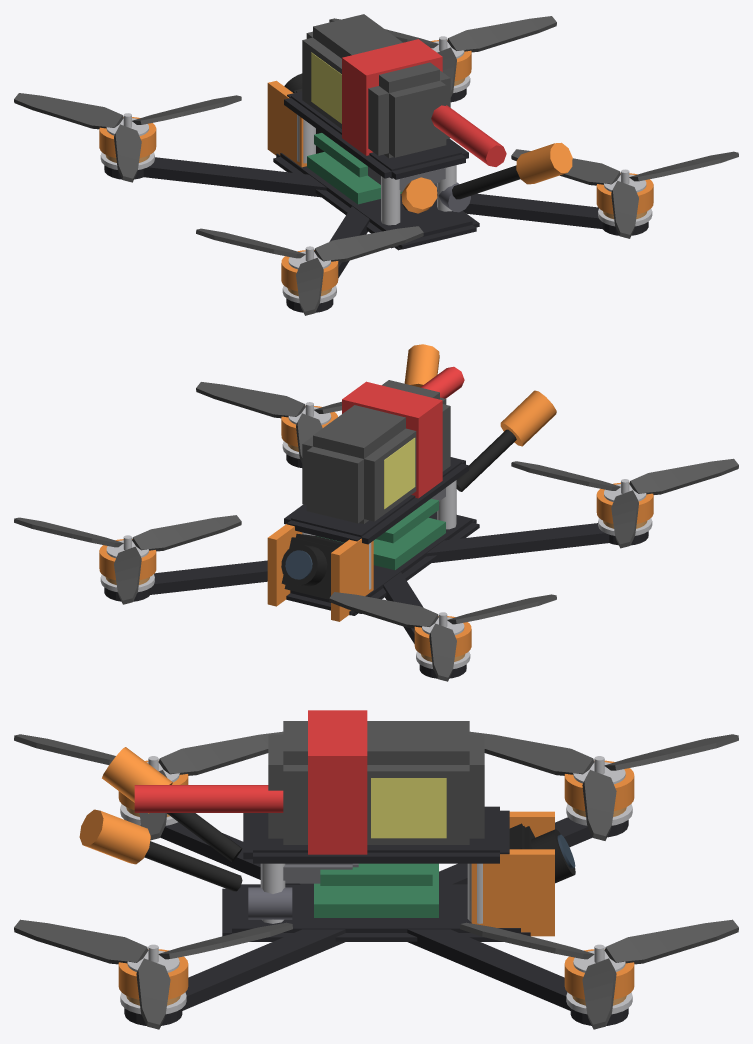
The model's file is micro25.glb.
The picture shows the model from 3 angles, top to bottom: view 1: azimuth 30°, elevation 25°; view 2: azimuth 150°, elevation 25°; view 3: azimuth 270°, elevation 25°; orthographic projection. The views are drawn at different scales.
Visible parts, largest first — view 1: body, prop_RL, prop_FL, prop_RR, prop_FR, cam_mount; view 2: body, prop_FL, prop_RL, prop_FR, cam_mount, prop_RR, fpv_cam; view 3: body, cam_mount, prop_FR, prop_RR, prop_FL, prop_RL, fpv_cam.
Part boxes in pixels (left/top/right/bottom): body: left=99, top=14, right=653, bottom=312; prop_RL: left=196, top=226, right=423, bottom=315; prop_FL: left=14, top=93, right=241, bottom=182; prop_RR: left=511, top=149, right=738, bottom=238; prop_FR: left=329, top=16, right=556, bottom=97; cam_mount: left=267, top=80, right=306, bottom=167; body: left=99, top=344, right=653, bottom=678; prop_FL: left=329, top=592, right=556, bottom=681; prop_RL: left=511, top=458, right=738, bottom=548; prop_FR: left=14, top=515, right=241, bottom=604; cam_mount: left=267, top=524, right=373, bottom=621; prop_RR: left=196, top=382, right=341, bottom=463; fpv_cam: left=281, top=533, right=343, bottom=599; body: left=79, top=710, right=634, bottom=1025; cam_mount: left=471, top=811, right=554, bottom=936; prop_FR: left=460, top=919, right=738, bottom=1029; prop_RR: left=14, top=919, right=292, bottom=1029; prop_FL: left=469, top=731, right=738, bottom=840; prop_RL: left=14, top=731, right=283, bottom=840; fpv_cam: left=509, top=823, right=575, bottom=883.
Bounding box in the file's own units: 0.1387 × 0.0435 × 0.1463.
